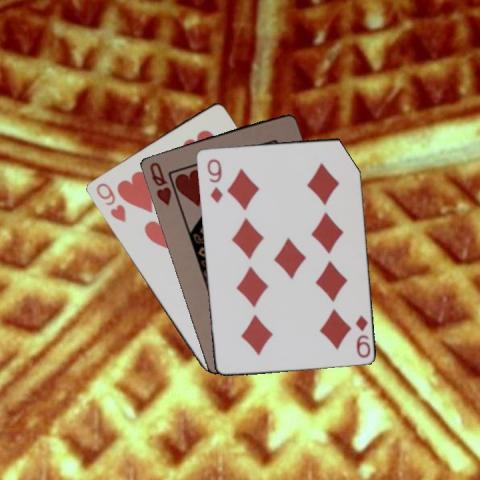9d: (204, 155, 224, 204), (352, 312, 371, 360)
9h: (92, 179, 126, 224)
Qh: (146, 158, 173, 206)
